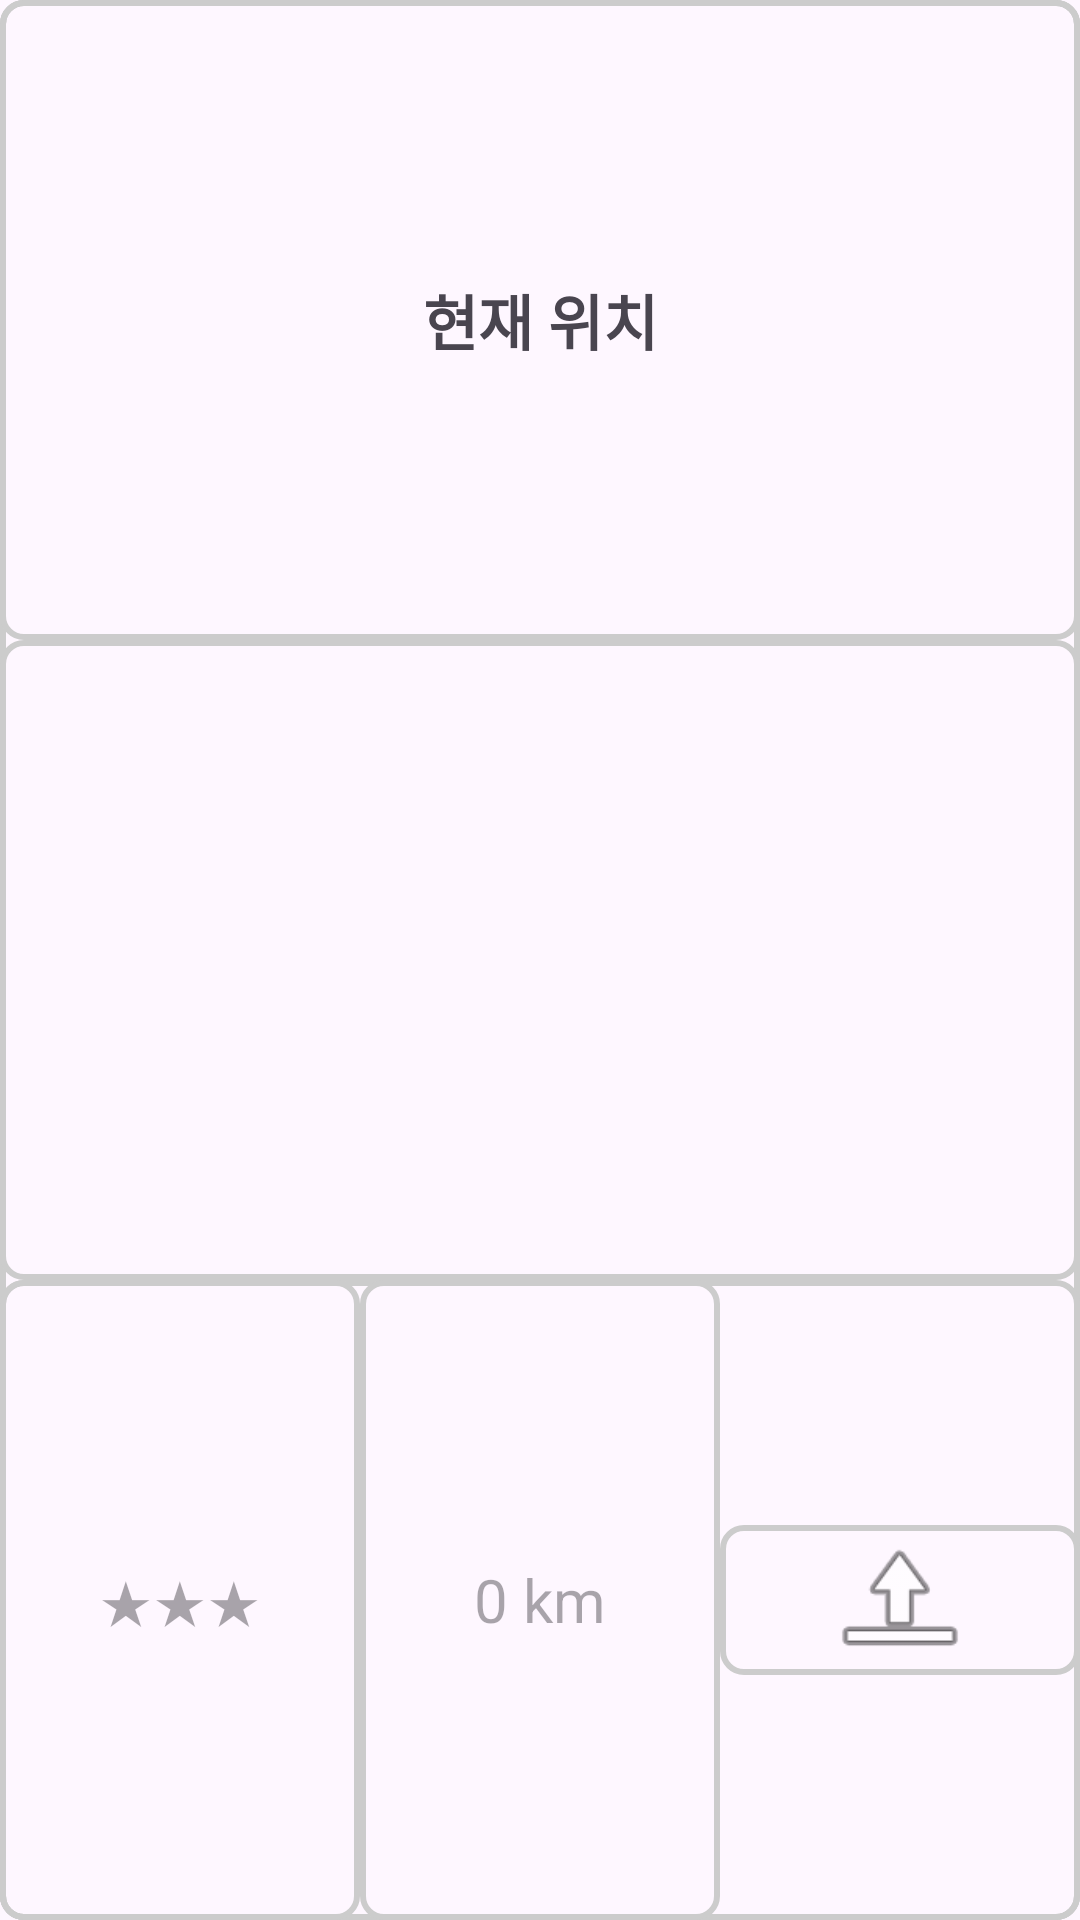

Screen size 1080×1920. Icon name, then its center in pixels as (x,y):
upload: (900,1600)
